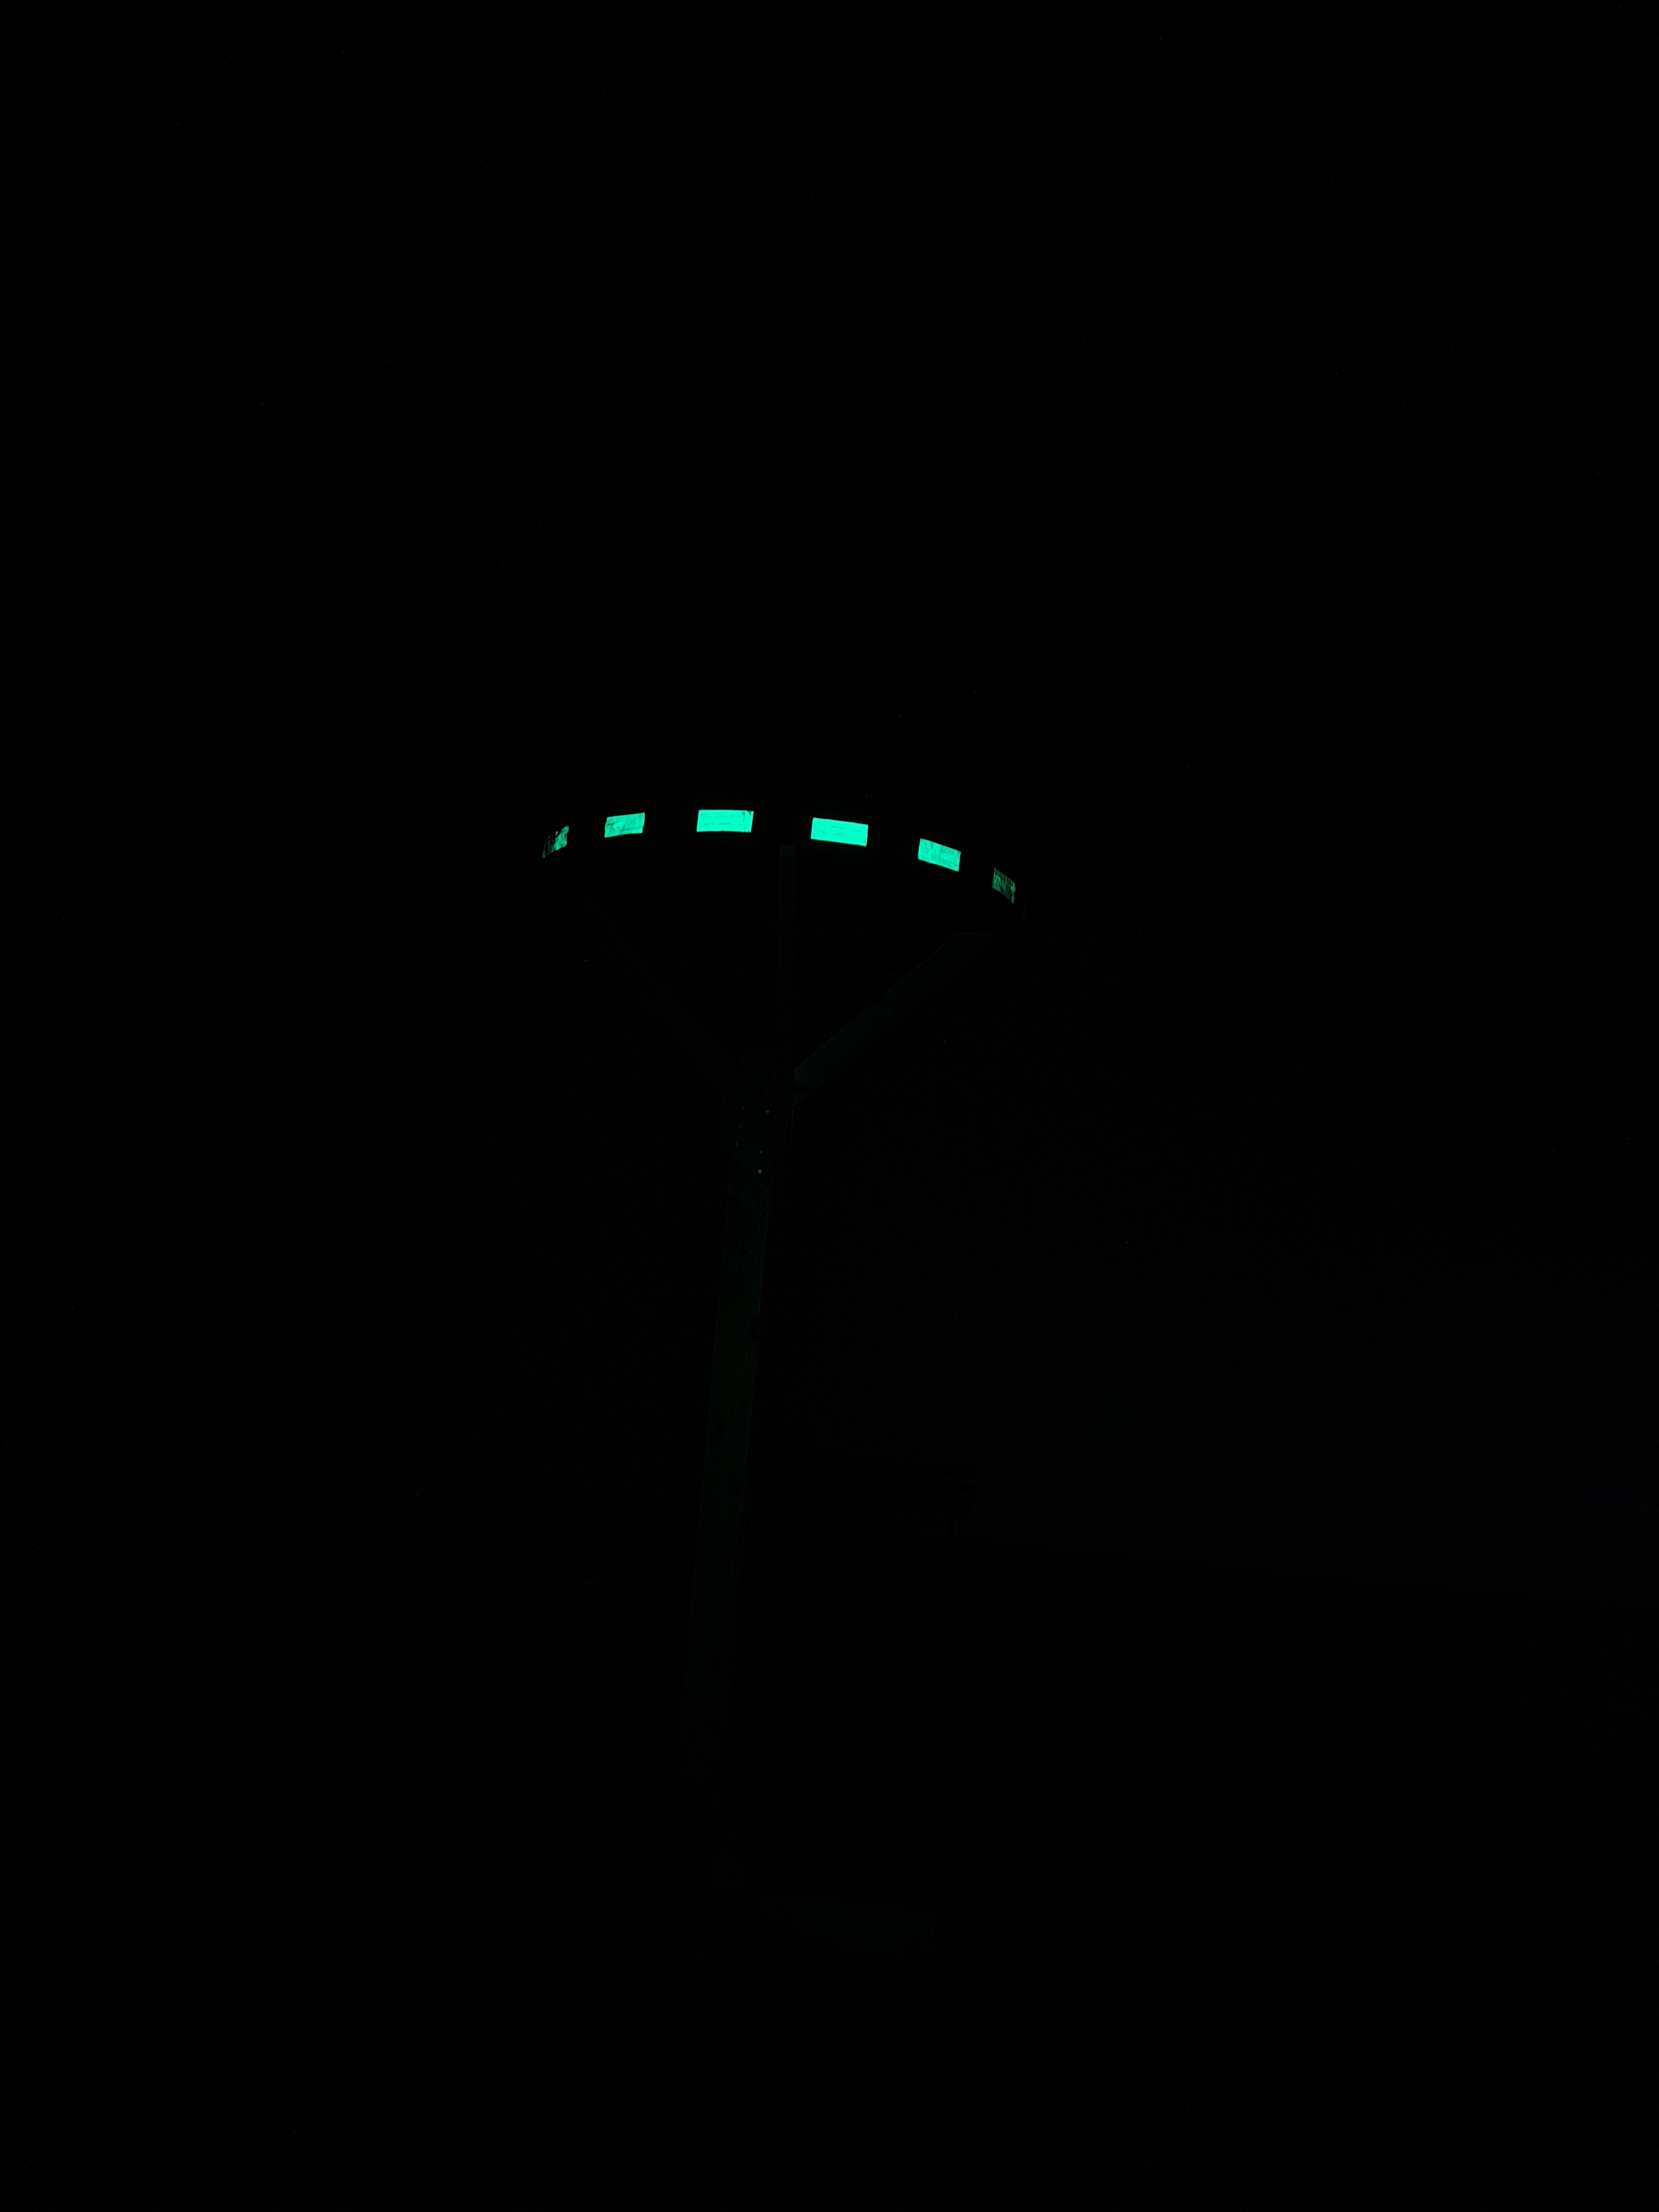hoop: (537, 794, 1019, 920)
